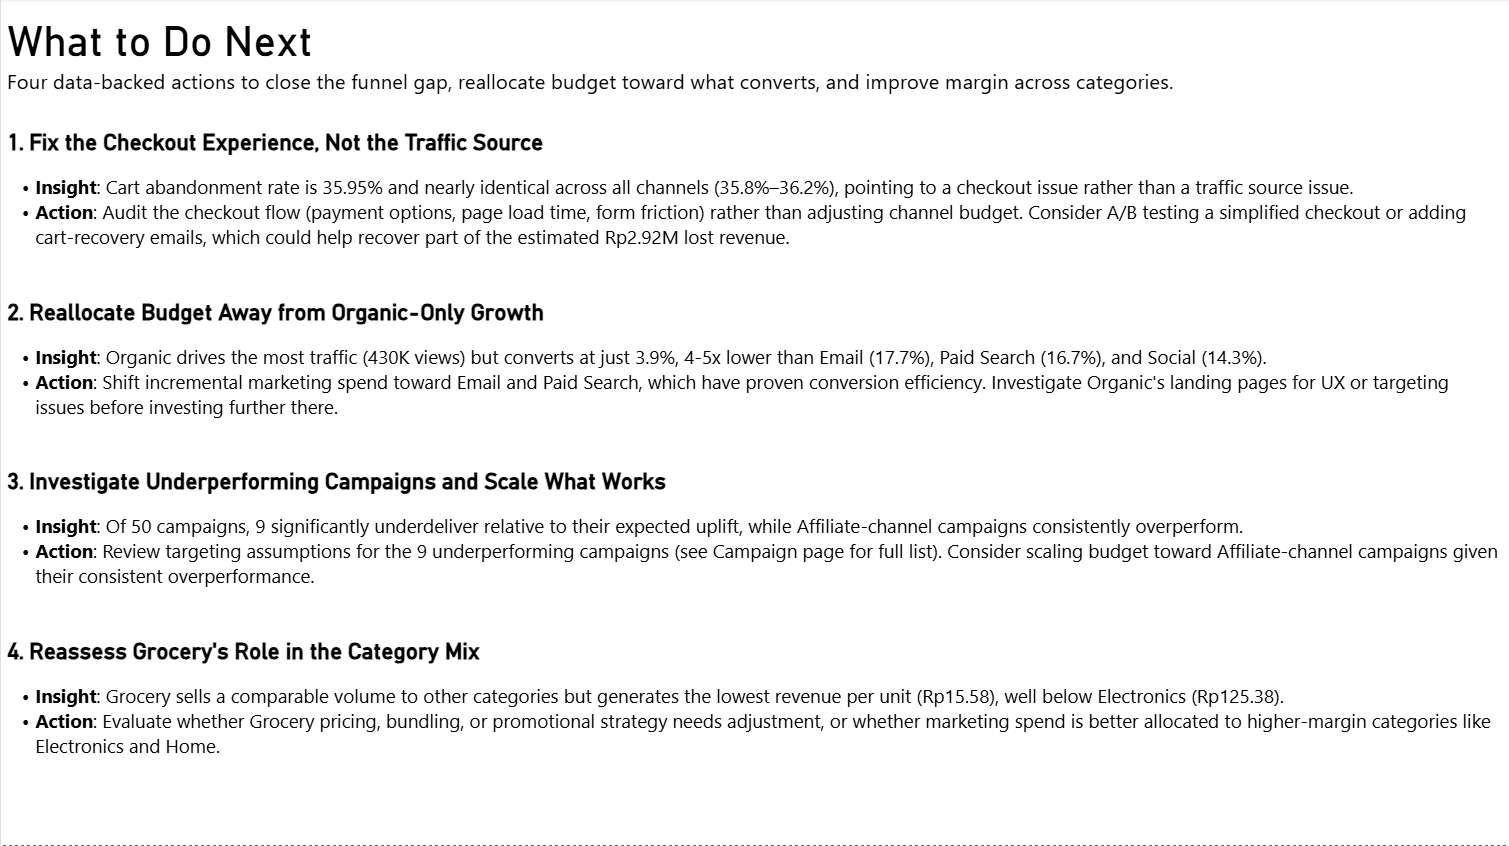

Layout of this report page (visuals, bound fields, positions):
{"tool":"powerbi","page":{"name":"Recommendations","canvas":[1280,720],"ordinal":5},"visuals":[{"type":"textbox","title":"What to Do Next","box":[0,16,1280,80],"z":0},{"type":"textbox","title":"1. Fix the Checkout Experience, Not the Traffic Source","box":[0,112,1280,150],"z":1000},{"type":"textbox","title":"2. Reallocate Budget Away from Organic-Only Growth","box":[0,256,1280,150],"z":2000},{"type":"textbox","title":"3. Investigate Underperforming Campaigns and Scale What Works","box":[0,400,1280,150],"z":3000},{"type":"textbox","title":"4. Reassess Grocery''s Role in the Category Mix","box":[0,544,1280,150],"z":4000}]}

Visuals, with their boxes in screenshot pixels (x1, y1, x2, y2), scaled from the page's 1280x720 canvas onto the 1509x846 screenshot:
"What to Do Next" textbox: [left=0, top=19, right=1508, bottom=113]
"1. Fix the Checkout Experience, Not the Traffic Source" textbox: [left=0, top=132, right=1508, bottom=308]
"2. Reallocate Budget Away from Organic-Only Growth" textbox: [left=0, top=301, right=1508, bottom=477]
"3. Investigate Underperforming Campaigns and Scale What Works" textbox: [left=0, top=470, right=1508, bottom=646]
"4. Reassess Grocery''s Role in the Category Mix" textbox: [left=0, top=639, right=1508, bottom=815]
